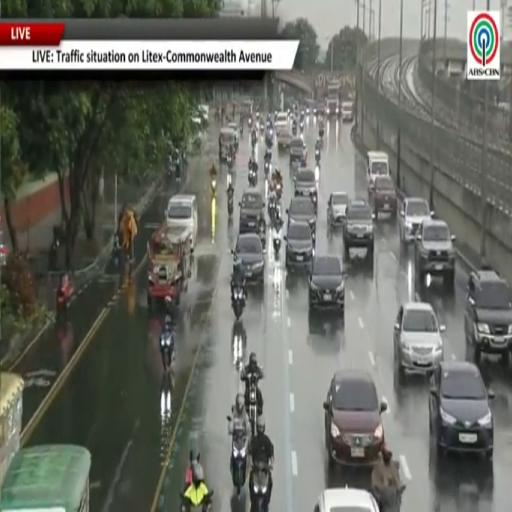car: (429, 361, 494, 459), (324, 370, 387, 466), (465, 269, 511, 363), (394, 302, 445, 375), (415, 219, 455, 287), (309, 255, 345, 316), (343, 199, 374, 261), (165, 195, 197, 251), (399, 198, 433, 243), (233, 233, 264, 282), (315, 488, 379, 511), (284, 222, 314, 268), (286, 198, 316, 238), (239, 188, 264, 233), (372, 176, 397, 218), (294, 168, 317, 206), (327, 192, 348, 228), (290, 137, 303, 166), (341, 101, 354, 122)
jeepney: (0, 445, 91, 511), (147, 226, 191, 308), (0, 373, 23, 482), (219, 127, 235, 162), (228, 122, 239, 147), (243, 101, 253, 117)
motorcycle: (231, 429, 248, 494), (251, 463, 269, 511), (246, 374, 259, 436), (160, 333, 175, 372), (180, 493, 212, 511), (56, 287, 71, 319), (232, 286, 245, 319), (273, 228, 281, 257), (259, 224, 266, 252), (268, 198, 276, 222), (248, 168, 257, 188), (227, 189, 233, 217), (310, 192, 317, 213), (264, 161, 271, 177), (211, 178, 217, 196), (315, 148, 321, 166), (315, 165, 320, 186), (276, 182, 282, 199), (266, 135, 273, 149), (252, 130, 257, 148), (227, 155, 233, 169), (259, 123, 264, 136), (292, 124, 297, 136), (234, 138, 238, 152), (300, 120, 304, 133), (248, 118, 252, 130), (240, 123, 243, 138), (319, 128, 323, 139), (274, 111, 278, 122), (256, 111, 260, 122)
truck: (325, 80, 342, 117), (275, 112, 291, 149)
